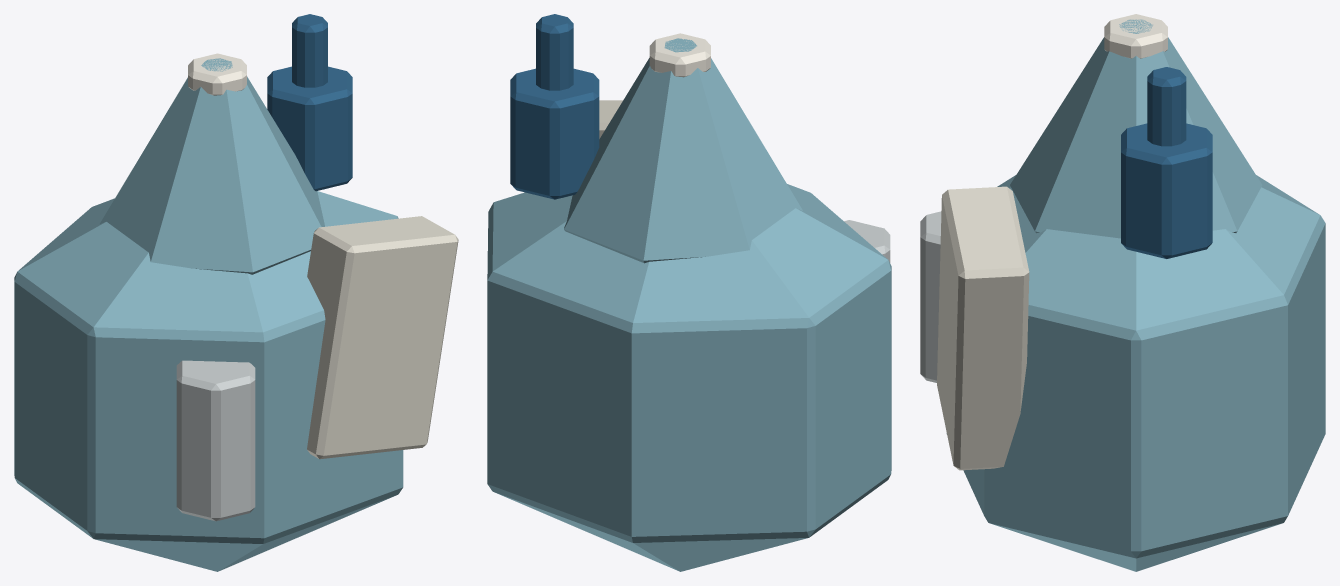
File: b04_clear_sack_of_recyclables.glb
3 renders of one model, left to right at view 1: azimuth 30°, elevation 25°; view 2: azimuth 150°, elevation 25°; view 3: azimuth 270°, elevation 25°, orthographic. The views are drawn at different scales.
Parts seen in each view (by area): view 1: b04_clear_sack_of_recyclables; view 2: b04_clear_sack_of_recyclables; view 3: b04_clear_sack_of_recyclables.
Part boxes in pixels (x1=…): b04_clear_sack_of_recyclables: x1=14, y1=14, x2=458, y2=571; b04_clear_sack_of_recyclables: x1=487, y1=14, x2=891, y2=571; b04_clear_sack_of_recyclables: x1=920, y1=14, x2=1325, y2=571.
Bounding box in the file's own units: 0.4251 × 0.6 × 0.3973.
